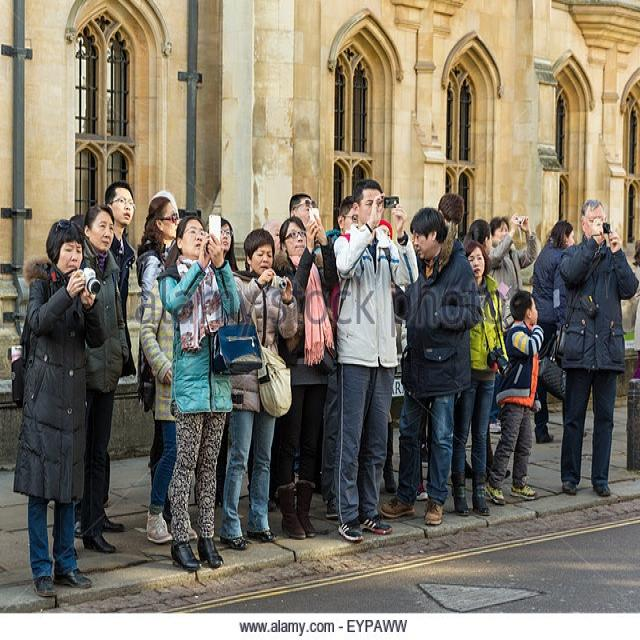body: (12, 218, 103, 598), (330, 178, 418, 542), (157, 211, 244, 573), (393, 204, 483, 531), (219, 222, 300, 550), (552, 196, 638, 499), (271, 211, 338, 541), (75, 202, 131, 558), (136, 235, 199, 548), (449, 237, 510, 516), (132, 194, 182, 526), (483, 288, 544, 505), (487, 215, 541, 436), (530, 218, 577, 446), (103, 177, 138, 383), (215, 217, 238, 275), (318, 225, 341, 278), (438, 189, 465, 232), (289, 191, 319, 228), (152, 183, 182, 213), (332, 195, 359, 228), (631, 240, 639, 339), (471, 220, 493, 253), (269, 220, 285, 256), (378, 219, 392, 240)
